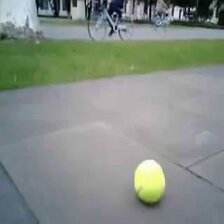tennis: (133, 160, 168, 203)
